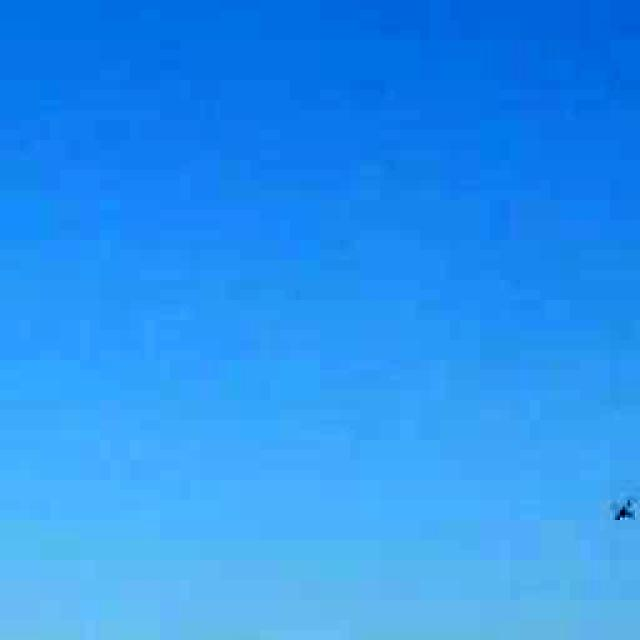bird: (602, 480, 640, 542)
